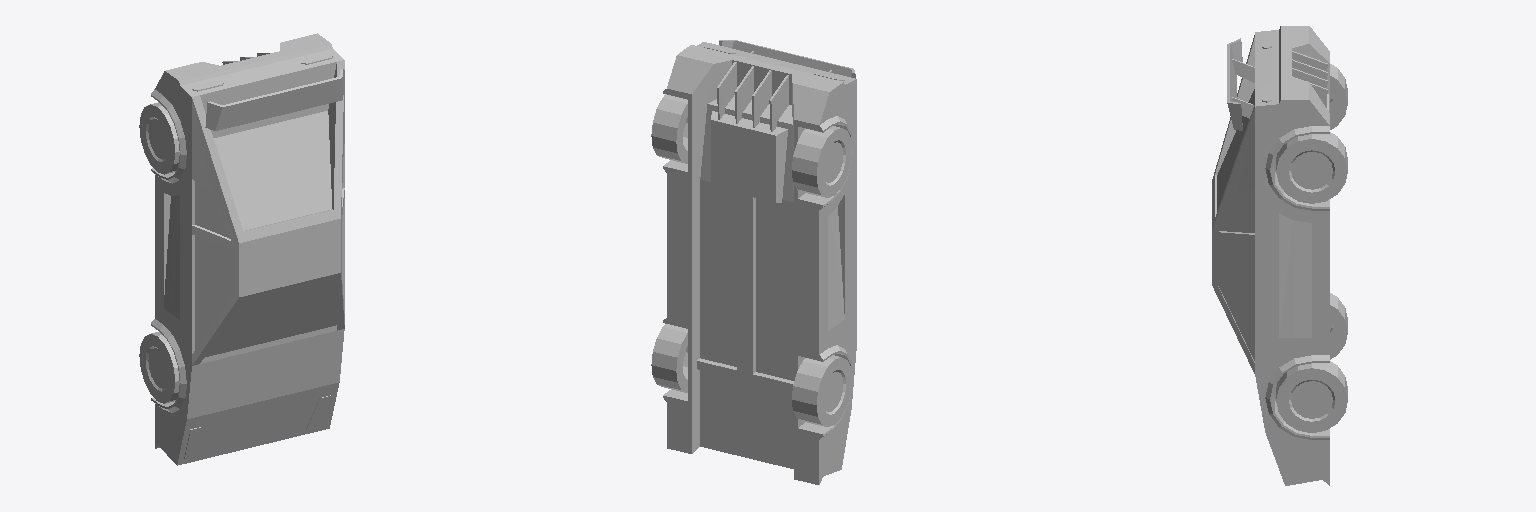
The model's file is c03-farara.obj.
3 renders of one model, left to right at view 1: azimuth 30°, elevation 25°; view 2: azimuth 150°, elevation 25°; view 3: azimuth 270°, elevation 25°, orthographic.
Visible parts, largest first — view 1: c03-farara_Cube.919; view 2: c03-farara_Cube.919; view 3: c03-farara_Cube.919.
Boxes of the visible parts, x1,y1,x2,y2 form: c03-farara_Cube.919: [139, 33, 344, 465]; c03-farara_Cube.919: [651, 40, 856, 484]; c03-farara_Cube.919: [1212, 26, 1347, 485].
Size of the model in its own units: 0.954 by 2.13 by 0.681.